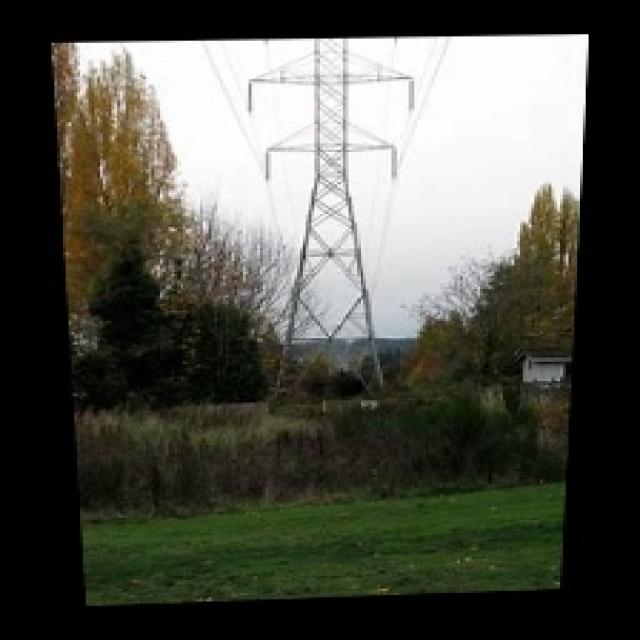utility poles: (346, 327, 451, 453), (220, 291, 309, 428)
